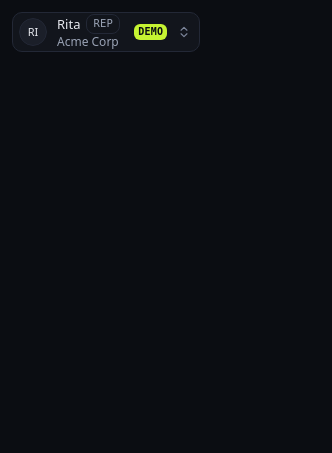
Test: ViewAsSwitcher › switching user sends the new X-Api-Key, clears the cache and is remembered
Click the button with aria-label "view as rita": [106, 32] box [12, 12, 200, 52]
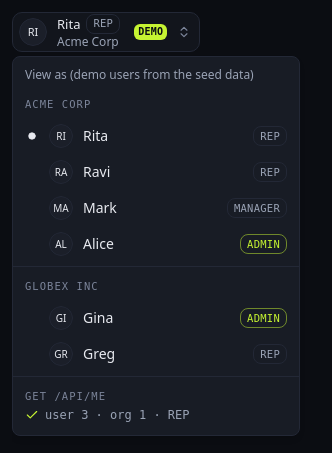
Click the menu item with aria-label "gina, admin at globex inc": [98, 318] box [17, 300, 295, 336]
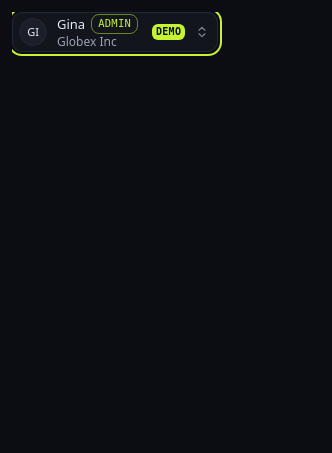
Expected: the button with aria-label "view as gina, admin at globex inc" is shown, [12, 12, 218, 52]
